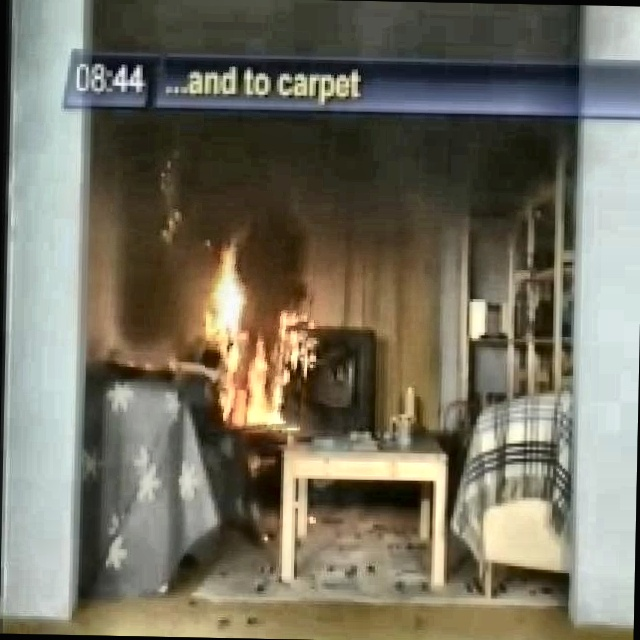fire: (186, 223, 277, 343)
